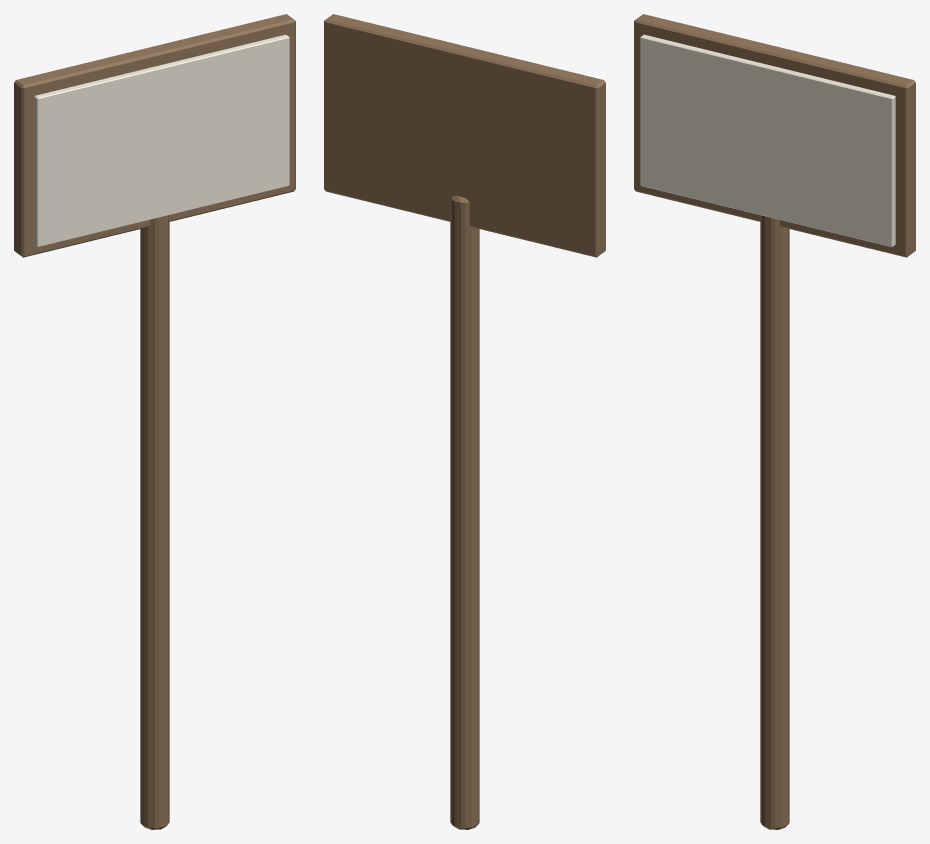
3 renders of one model, left to right at view 1: azimuth 30°, elevation 25°; view 2: azimuth 150°, elevation 25°; view 3: azimuth 330°, elevation 25°, orthographic.
Parts seen in each view (by area): view 1: SignPost; view 2: SignPost; view 3: SignPost.
Part boxes in pixels (bbox=[...]): SignPost: bbox=[14, 14, 295, 829]; SignPost: bbox=[324, 14, 605, 829]; SignPost: bbox=[634, 14, 915, 829].
Bounding box in the file's own units: 0.5 × 1.35 × 0.0507.
